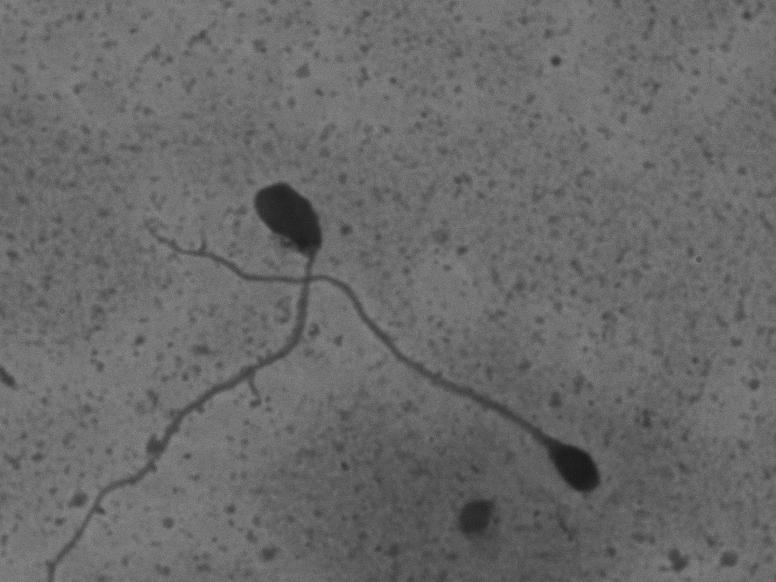Abnormal: (128, 210, 615, 504), (55, 166, 338, 566)
